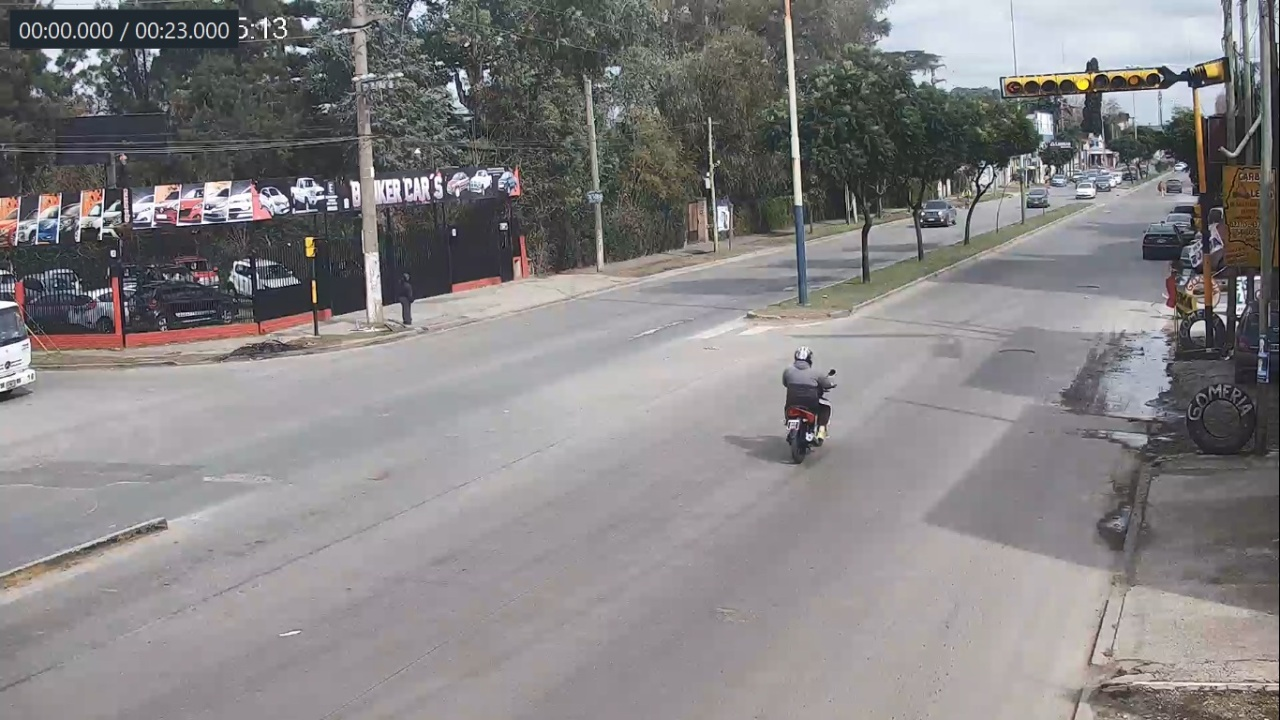motorcycle: (783, 368, 837, 463)
traffic light: (1057, 69, 1160, 91)
